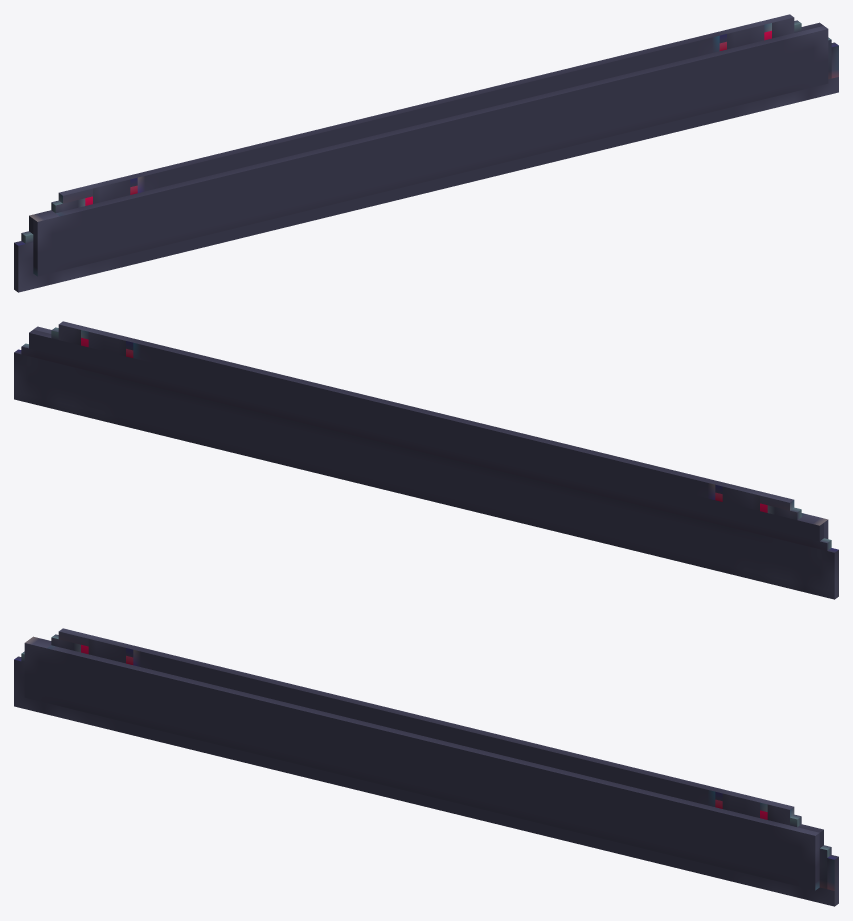
The model's file is Electronics_Plate_Long_C_00.fbx.
3 renders of one model, top to bottom at view 1: azimuth 30°, elevation 25°; view 2: azimuth 150°, elevation 25°; view 3: azimuth 330°, elevation 25°, orthographic.
Visible parts, largest first — view 1: Electronics_Plate_Long_C_00; view 2: Electronics_Plate_Long_C_00; view 3: Electronics_Plate_Long_C_00.
Boxes of the visible parts, x1,y1,x2,y2 form: Electronics_Plate_Long_C_00: (14,14,838,292); Electronics_Plate_Long_C_00: (14,321,838,599); Electronics_Plate_Long_C_00: (14,628,838,906).
Bounding box in the file's own units: 550 × 55 × 10.
